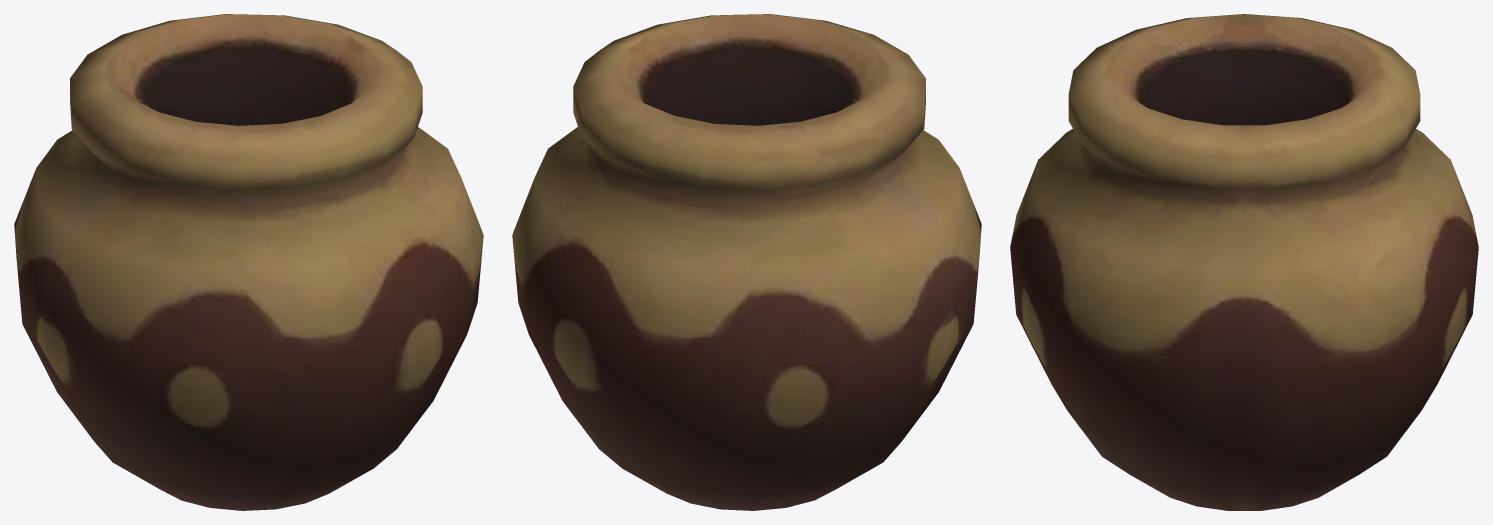
3 views of the same model, side by side, from view 1: azimuth 30°, elevation 25°; view 2: azimuth 150°, elevation 25°; view 3: azimuth 270°, elevation 25° (orthographic).
Bounding box in the file's own units: 0.6426 × 0.6042 × 0.6448.
1 material, 1 textured.
